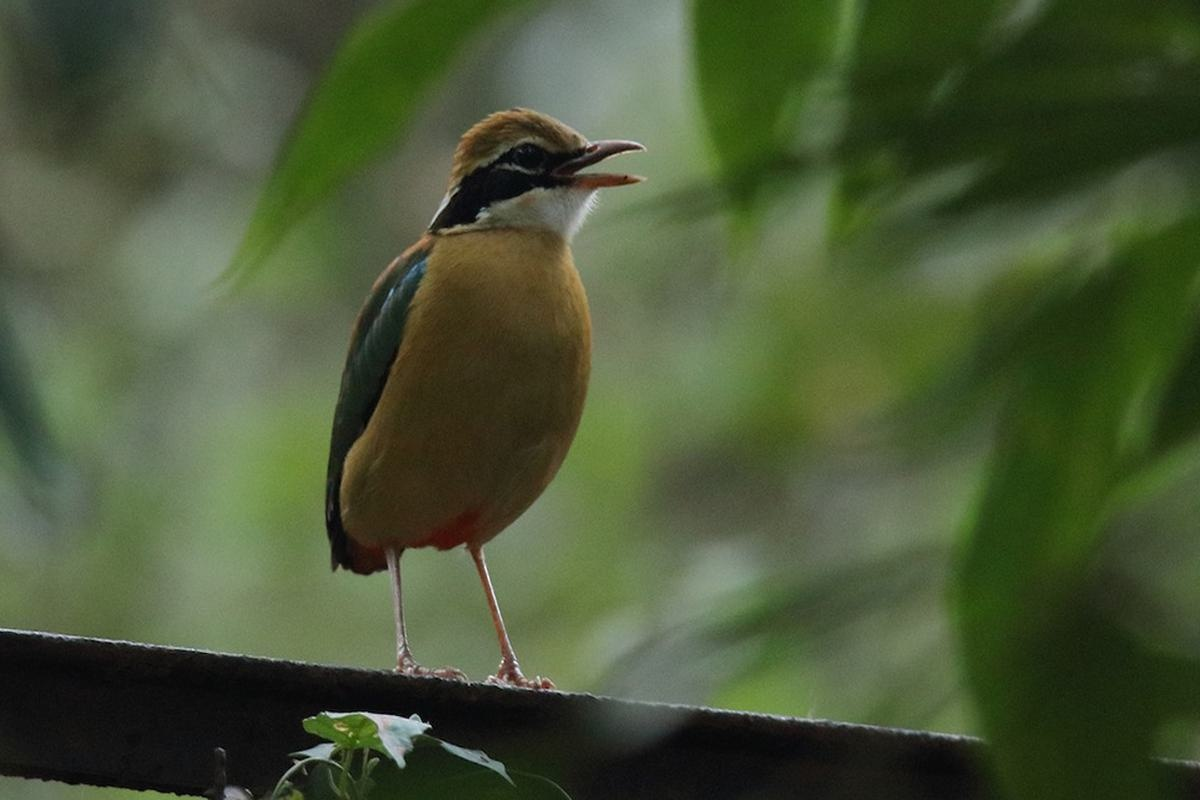pitta: (251, 88, 739, 664)
